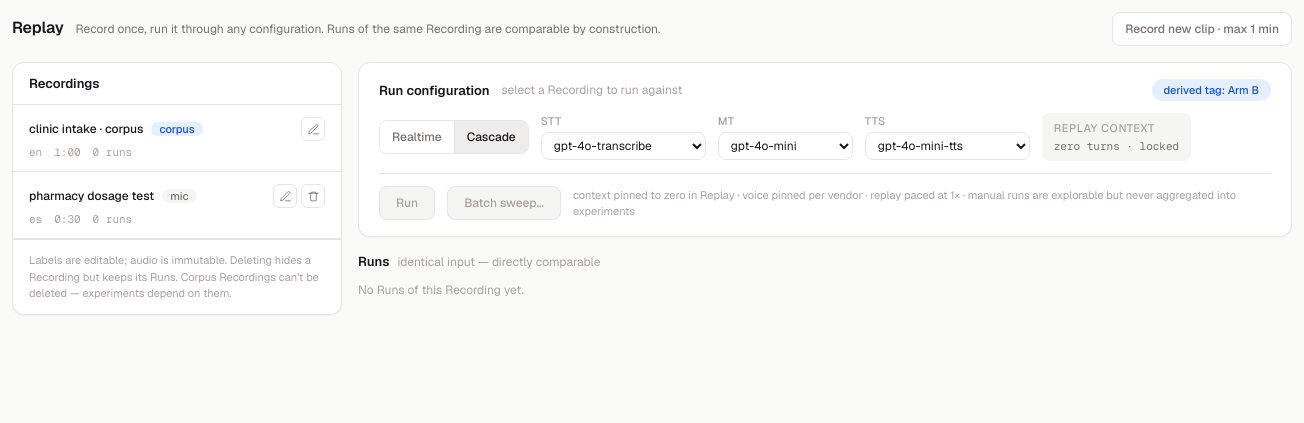
Test: ticket 044 — a manual Run in flight says so › renders the in-flight note verbatim, inside the run config panel
The width and height of the screenshot is (1304, 423).
Expected: the element that starts with "Recordings" is shown, [12,62,342,314]
Click the option "clinic intake · corpus corpus en 1:00 0 runs".
click(177, 138)  # box [13,105,341,172]
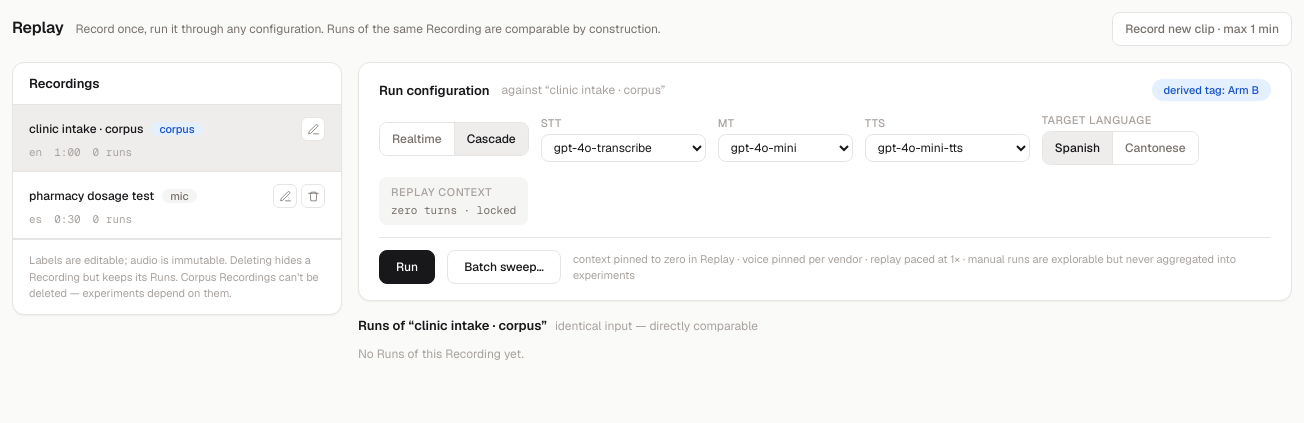
Click the button "Run".
click(407, 267)  # box [379,250,435,284]
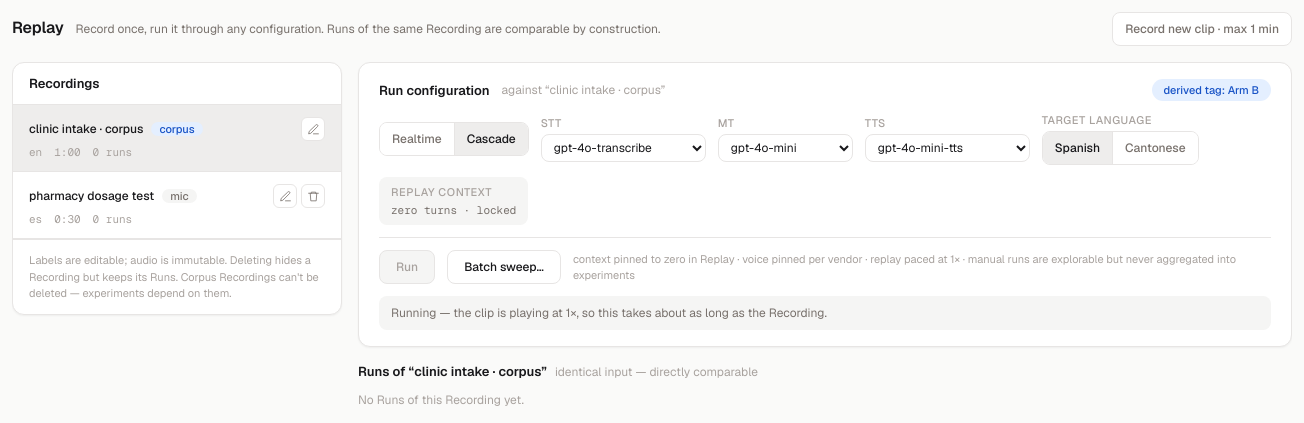
Expected: the text "Running — the clip is playing at 1×, so this takes about as long as the Recording." is shown, [391,305,827,321]
Expected: the text "1×" is shown, [391,305,827,321]
